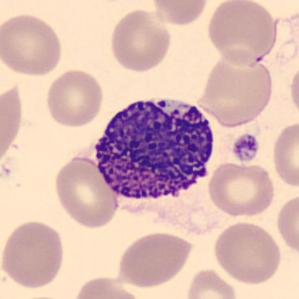Basophil: (86, 87, 220, 222)
Platelets: (230, 132, 260, 164)
RBC: (196, 54, 275, 128), (51, 154, 120, 230), (204, 0, 280, 67), (0, 217, 67, 290), (115, 229, 196, 289), (211, 219, 283, 286), (108, 7, 174, 74), (0, 11, 64, 78), (206, 161, 278, 218), (43, 67, 106, 128), (0, 78, 26, 168), (270, 119, 298, 190), (72, 273, 146, 299), (184, 266, 239, 299), (149, 0, 210, 27), (274, 191, 298, 257), (287, 61, 299, 120), (4, 293, 78, 299)
